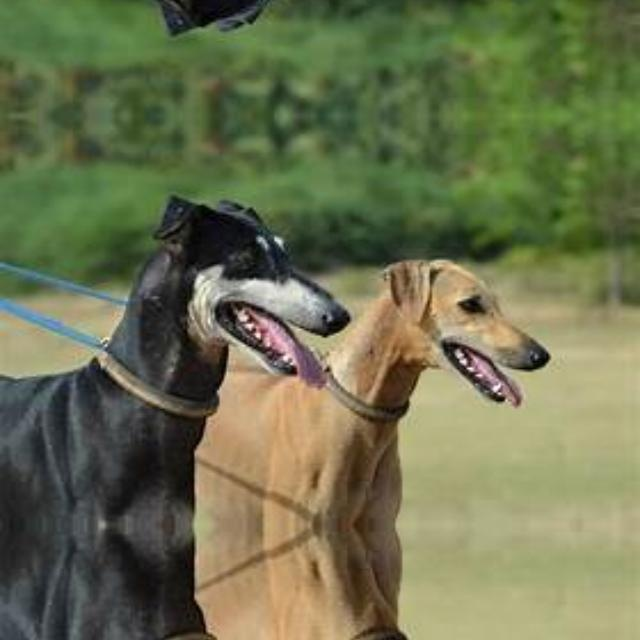dog: (3, 181, 353, 520), (3, 528, 353, 640), (360, 246, 551, 443), (3, 0, 353, 48), (360, 604, 551, 640)
